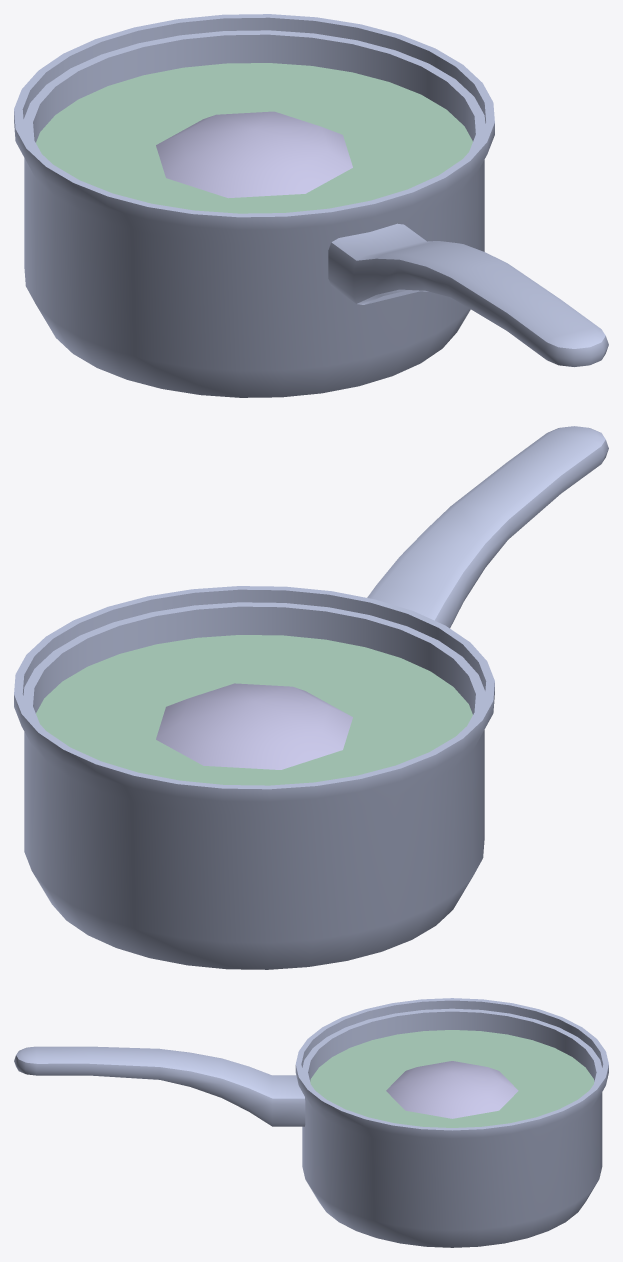
The model's file is cooking_pot_lod0.fbx.
The picture shows the model from 3 angles, top to bottom: view 1: azimuth 30°, elevation 25°; view 2: azimuth 150°, elevation 25°; view 3: azimuth 270°, elevation 25°; orthographic projection. The views are drawn at different scales.
Parts seen in each view (by area): view 1: pot, pot_mix, pot_soda; view 2: pot, pot_mix, pot_soda; view 3: pot, pot_mix, pot_soda.
Boxes of the visible parts, <box> form: pot: <box>14,14,608,397</box>; pot_mix: <box>36,63,472,213</box>; pot_soda: <box>156,111,352,198</box>; pot: <box>14,426,608,969</box>; pot_mix: <box>36,635,472,785</box>; pot_soda: <box>156,683,352,769</box>; pot: <box>14,998,608,1247</box>; pot_mix: <box>310,1030,594,1127</box>; pot_soda: <box>386,1061,518,1118</box>.
Bounding box in the file's own units: 1175 × 569 × 2231.
